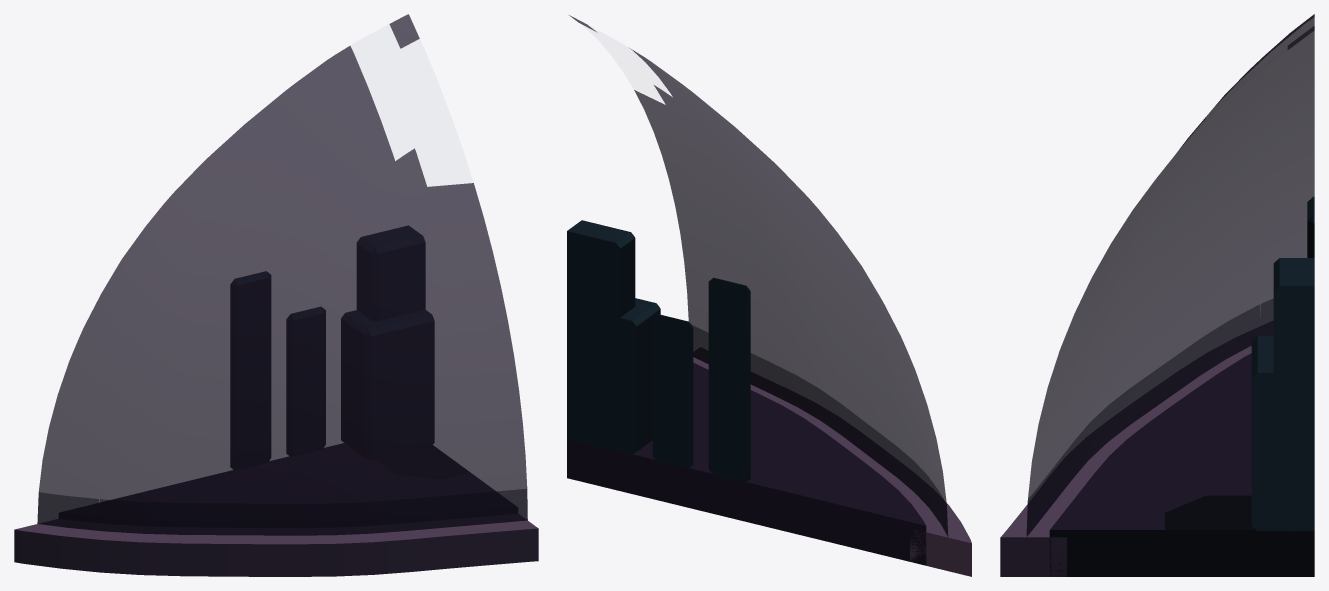
The model's file is purple_dome_bl.glb.
The picture shows the model from 3 angles, left to right: view 1: azimuth 30°, elevation 25°; view 2: azimuth 150°, elevation 25°; view 3: azimuth 270°, elevation 25°; orthographic projection. The views are drawn at different scales.
Visible parts, largest first — view 1: purple_dome_bl_glassshell, purple_dome_bl_collar, purple_dome_bl_floor, purple_dome_bl_bd_tower31, purple_dome_bl_bd_tower12, purple_dome_bl_bd_tower31_top, purple_dome_bl_bd_tower13; view 2: purple_dome_bl_glassshell, purple_dome_bl_floor, purple_dome_bl_bd_tower31, purple_dome_bl_bd_tower12, purple_dome_bl_bd_tower13, purple_dome_bl_bd_tower31_top, purple_dome_bl_collar; view 3: purple_dome_bl_glassshell, purple_dome_bl_floor, purple_dome_bl_bd_tower31, purple_dome_bl_collar, purple_dome_bl_bd_tower31_top, purple_dome_bl_bd_tower12.
Part boxes in pixels (x1,y1,x2,y2): purple_dome_bl_glassshell: (37, 14, 527, 535); purple_dome_bl_collar: (14, 514, 538, 576); purple_dome_bl_floor: (61, 443, 517, 527); purple_dome_bl_bd_tower31: (341, 310, 434, 459); purple_dome_bl_bd_tower12: (230, 271, 270, 469); purple_dome_bl_bd_tower31_top: (357, 225, 425, 320); purple_dome_bl_bd_tower13: (286, 307, 325, 456); purple_dome_bl_glassshell: (569, 15, 948, 536); purple_dome_bl_floor: (567, 362, 926, 565); purple_dome_bl_bd_tower31: (567, 298, 660, 454); purple_dome_bl_bd_tower12: (708, 277, 750, 482); purple_dome_bl_bd_tower13: (652, 314, 693, 467); purple_dome_bl_bd_tower31_top: (567, 220, 635, 320); purple_dome_bl_collar: (693, 348, 971, 576); purple_dome_bl_glassshell: (1026, 14, 1314, 536); purple_dome_bl_floor: (1049, 353, 1314, 576); purple_dome_bl_bd_tower31: (1251, 335, 1314, 531); purple_dome_bl_collar: (1000, 322, 1273, 576); purple_dome_bl_bd_tower31_top: (1273, 258, 1314, 377); purple_dome_bl_bd_tower12: (1307, 196, 1314, 257).
Size of the model in its own units: 20.2 by 22.12 by 11.52.
